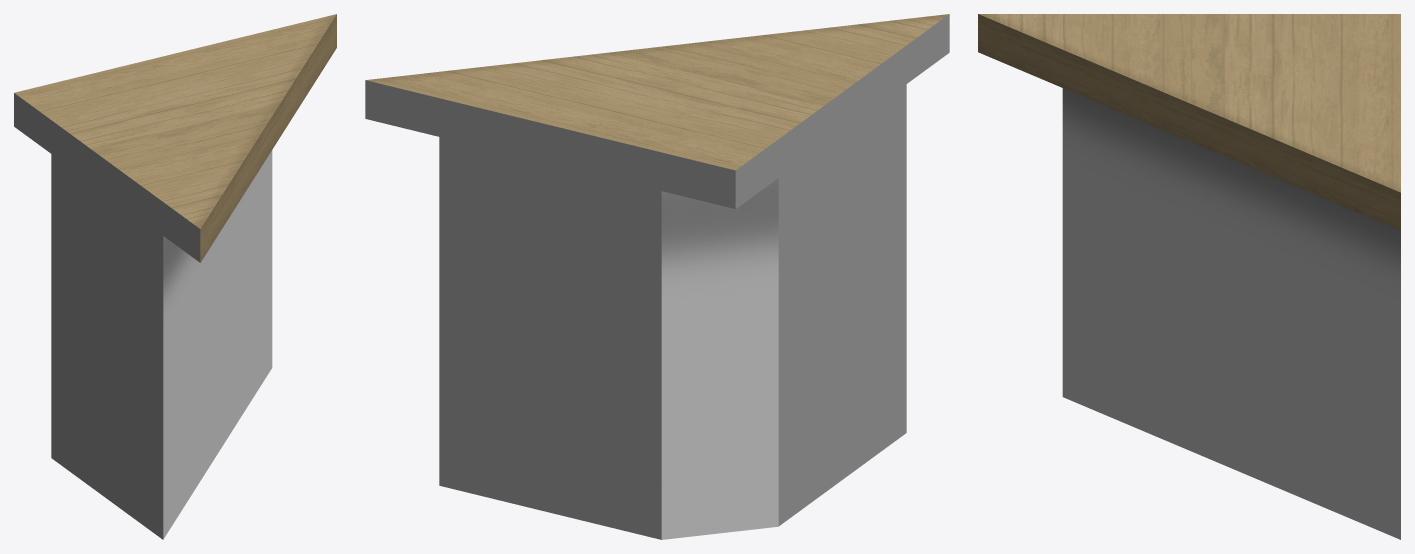
File: SM_Table_Corner.fbx
3 renders of one model, left to right at view 1: azimuth 30°, elevation 25°; view 2: azimuth 150°, elevation 25°; view 3: azimuth 270°, elevation 25°, orthographic. The views are drawn at different scales.
Visible parts, largest first — view 1: SM_Table_Corner; view 2: SM_Table_Corner; view 3: SM_Table_Corner.
Boxes of the visible parts, bbox=[...] form: SM_Table_Corner: bbox=[14, 14, 336, 539]; SM_Table_Corner: bbox=[365, 14, 949, 539]; SM_Table_Corner: bbox=[978, 14, 1400, 539].
Size of the model in its own units: 50 by 50 by 50.
